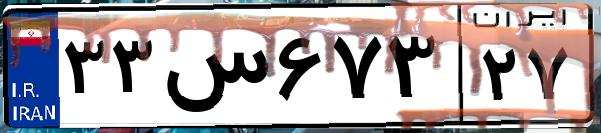2: (475, 38, 525, 113)
3: (385, 28, 445, 110), (57, 26, 110, 100), (110, 28, 158, 98)
6: (270, 28, 330, 110)
7: (330, 28, 385, 110), (525, 38, 570, 115)
س: (158, 20, 270, 120)
